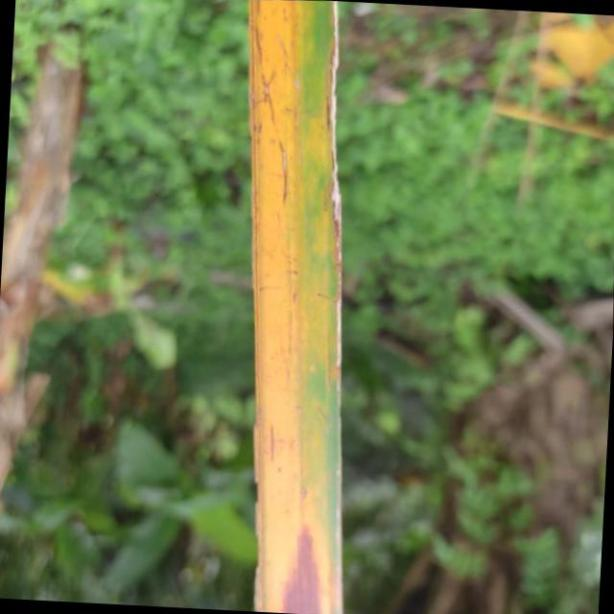Megnesium: (246, 0, 347, 614)
